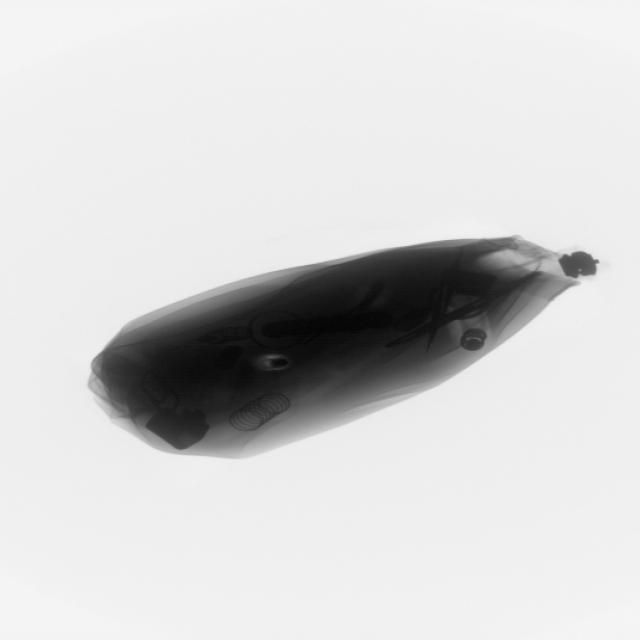BLADE: (431, 277, 452, 336)
GUN: (269, 311, 386, 344)
